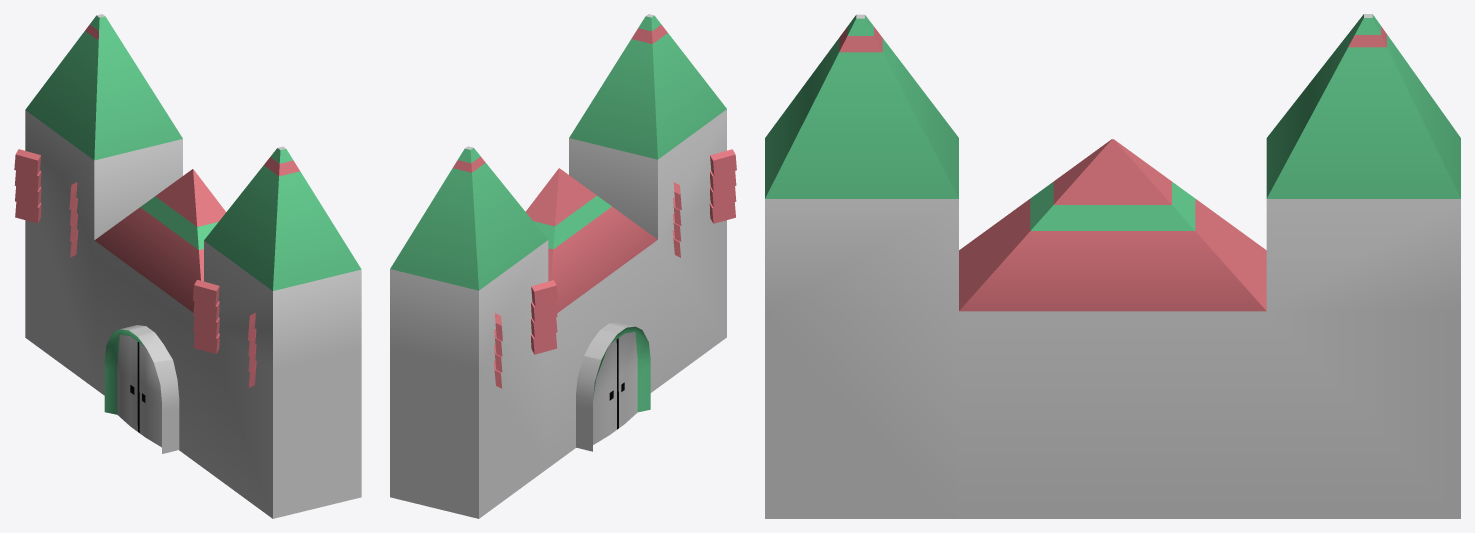
The model's file is NorthPole_Factory.fbx.
3 views of the same model, side by side, from view 1: azimuth 30°, elevation 25°; view 2: azimuth 150°, elevation 25°; view 3: azimuth 270°, elevation 25° (orthographic). The views are drawn at different scales.
Visible parts, largest first — view 1: pCube1, pCube14, pCube5, pCube9, pCube2, pCube6, pCube3, pCube7, pCube8, pCube4; view 2: pCube1, pCube14, pCube5, pCube13, pCube3, pCube10, pCube2, pCube11, pCube4, pCube12; view 3: pCube1.
Part boxes in pixels (box(x1,y1,x2,y2)): pCube1: box(25, 14, 361, 518); pCube14: box(104, 325, 179, 453); pCube5: box(14, 149, 40, 176); pCube9: box(193, 279, 219, 306); pCube2: box(15, 202, 41, 223); pCube6: box(193, 332, 219, 353); pCube3: box(15, 186, 41, 207); pCube7: box(193, 317, 219, 337); pCube8: box(193, 301, 219, 322); pCube4: box(14, 170, 41, 191); pCube1: box(390, 14, 726, 518); pCube14: box(576, 322, 650, 451); pCube5: box(531, 280, 557, 307); pCube13: box(710, 149, 736, 176); pCube3: box(531, 317, 557, 338); pCube10: box(709, 202, 735, 223); pCube2: box(531, 333, 557, 354); pCube11: box(710, 186, 736, 207); pCube4: box(531, 301, 557, 322); pCube12: box(710, 171, 736, 191); pCube1: box(765, 14, 1460, 518).
Bounding box in the file's own units: 6.96 × 21.03 × 28.14.
